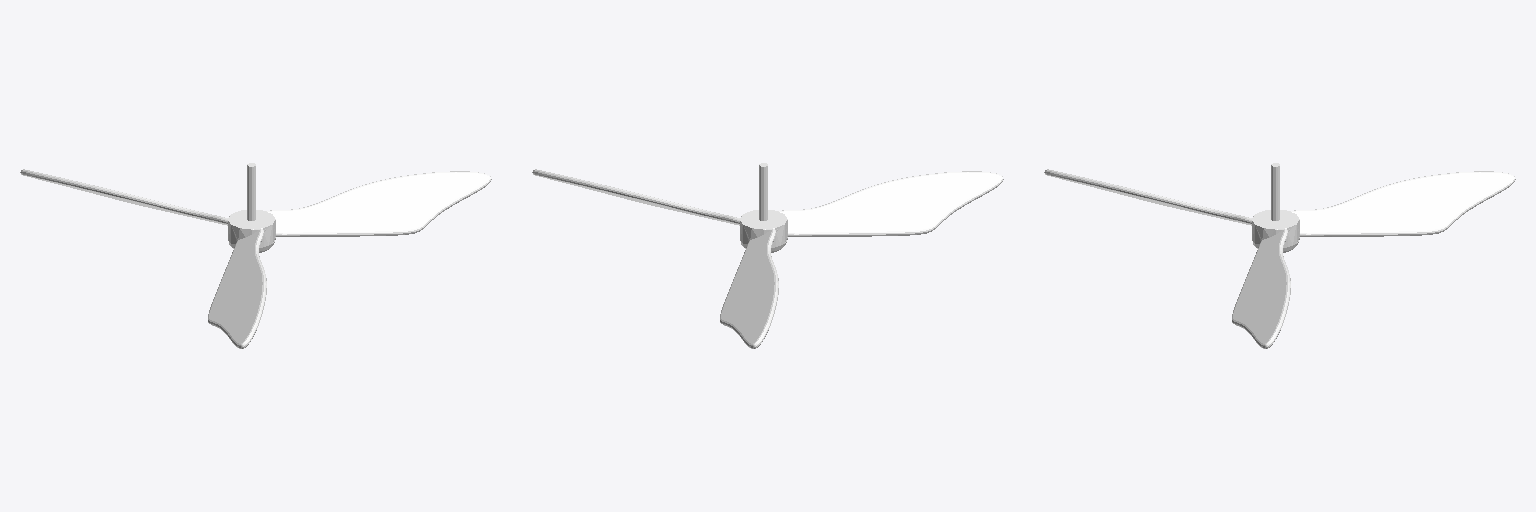
URDF robot description (cccw.sldprt):
<robot
  name="cccw.sldprt">
  <link
    name="cccw">
    <inertial>
      <origin
        xyz="3.0908E-07 -1.5647E-06 0.0051823"
        rpy="0 0 0" />
      <mass
        value="0.0095514" />
      <inertia
        ixx="1.02510371559395E-05"
        ixy="-1.16008268218319E-09"
        ixz="2.70213735967528E-11"
        iyy="1.02497908824232E-05"
        iyz="2.63024871489545E-10"
        izz="2.02914030154628E-05" />
    </inertial>
    <visual>
      <origin
        xyz="0 0 0"
        rpy="0 0 0" />
      <geometry>
        <mesh
          filename="package://cccw/meshes/cccw.STL" />
      </geometry>
      <material
        name="">
        <color
          rgba="1 1 1 1" />
      </material>
    </visual>
    <collision>
      <origin
        xyz="0 0 0"
        rpy="0 0 0" />
      <geometry>
        <mesh
          filename="package://cccw/meshes/cccw.STL" />
      </geometry>
    </collision>
  </link>
</robot>

--- Facts derived from the render (not from the file) ---
Views: 3 orthographic renders of the robot side by side, from view 1: azimuth 30°, elevation 25°; view 2: azimuth 150°, elevation 25°; view 3: azimuth 270°, elevation 25°.
Robot: cccw.sldprt — 1 links, 0 joints (none); root link cccw; default pose: all joints at 0.
Visible links, largest first — view 1: cccw; view 2: cccw; view 3: cccw.
Link boxes in pixels (x1=…): cccw: x1=20, y1=163, x2=491, y2=348; cccw: x1=532, y1=163, x2=1003, y2=348; cccw: x1=1044, y1=163, x2=1515, y2=348.
Size in the robot's own frame: 0.1386 by 0.1566 by 0.0322 metres.
Meshes: 1 distinct files referenced, 1 mesh visuals loaded (1 binary STL).